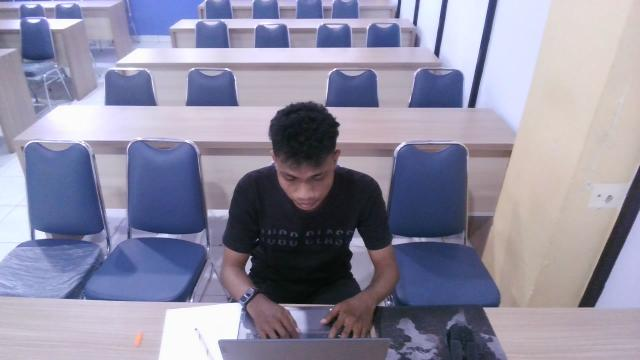Normal_Focus: (223, 78, 380, 267)
